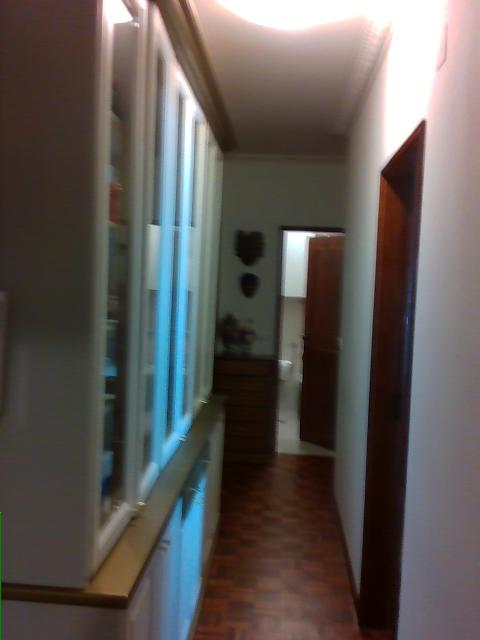semi_door: (271, 224, 346, 460)
